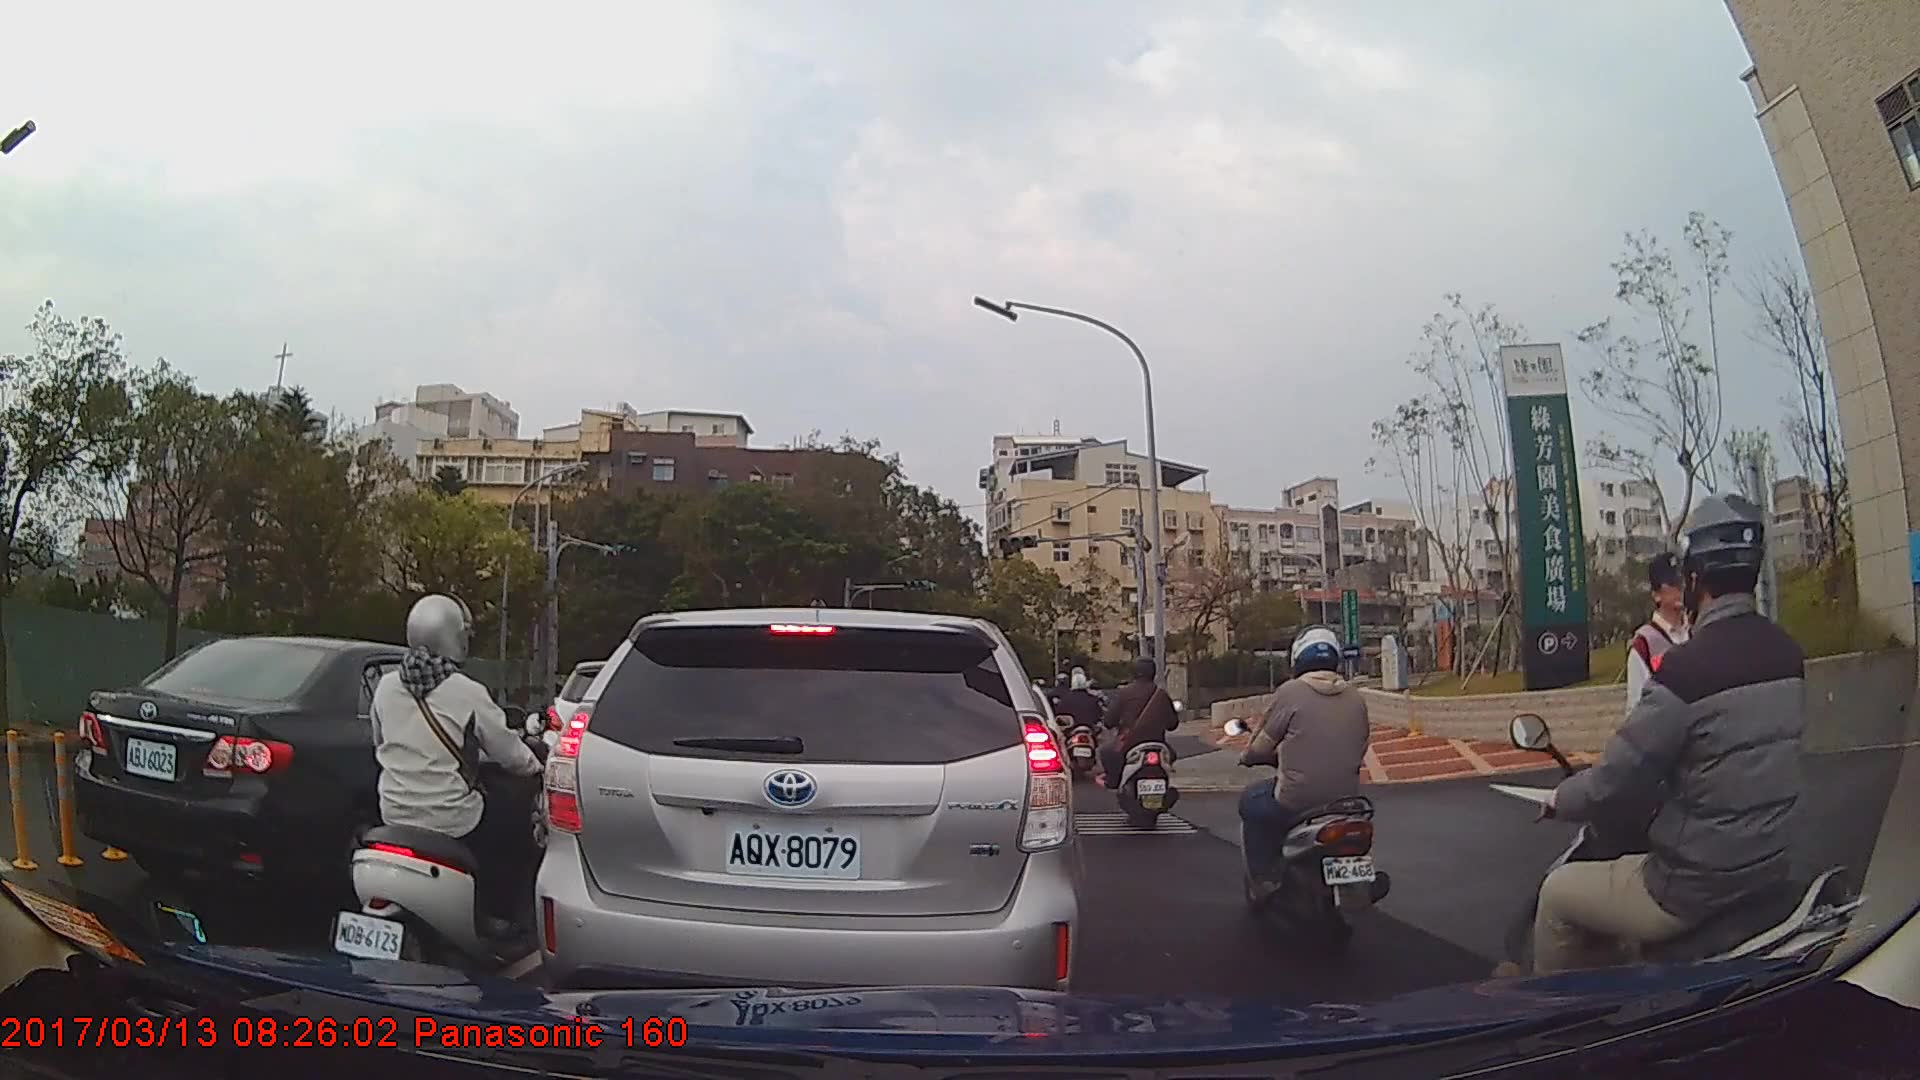rider: (1500, 492, 1873, 1056), (335, 592, 549, 998), (1228, 628, 1381, 948), (1097, 658, 1180, 827), (1065, 668, 1108, 786)
vehicle: (530, 608, 1086, 1018), (70, 634, 560, 919)
